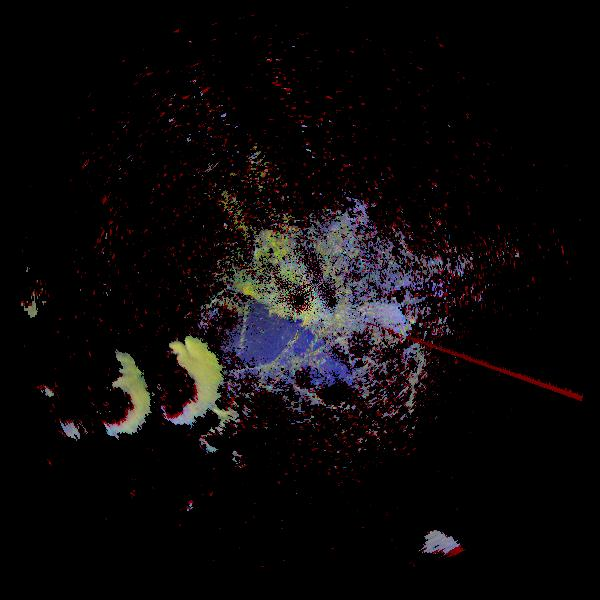roost: (108, 312, 246, 450), (68, 354, 167, 453), (78, 334, 156, 412), (41, 377, 110, 446)
